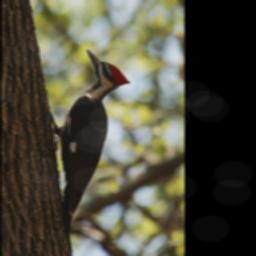Woodpecker: (40, 48, 131, 254)
